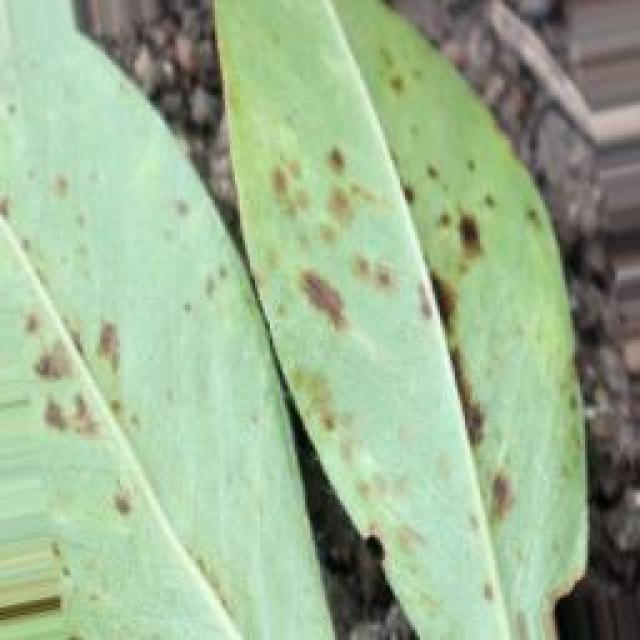Whitefly: (0, 50, 564, 631)
